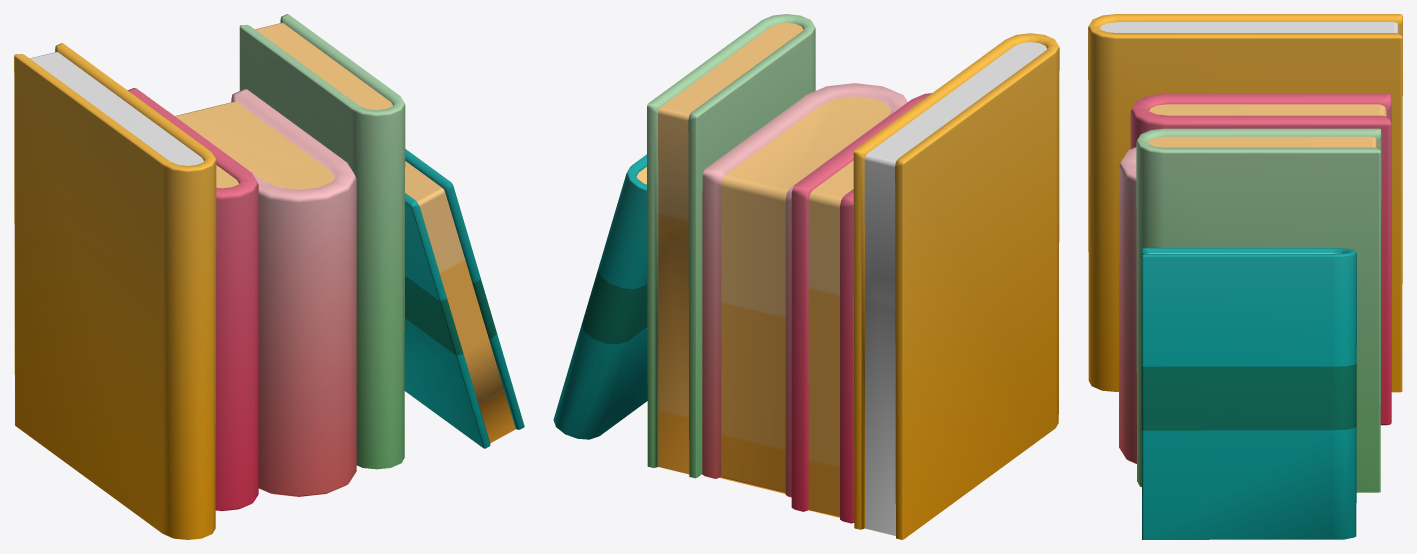
The model's file is Books_01.glb.
3 views of the same model, side by side, from view 1: azimuth 30°, elevation 25°; view 2: azimuth 150°, elevation 25°; view 3: azimuth 270°, elevation 25° (orthographic). The views are drawn at different scales.
Visible parts, largest first — view 1: Books_01; view 2: Books_01; view 3: Books_01.
Boxes of the visible parts, x1,y1,x2,y2 form: Books_01: (14,14,524,539); Books_01: (553,14,1059,539); Books_01: (1088,14,1402,539).
Size of the model in its own units: 0.3374 by 0.3227 by 0.2543.
Materials: 1 (1 with a texture image).
